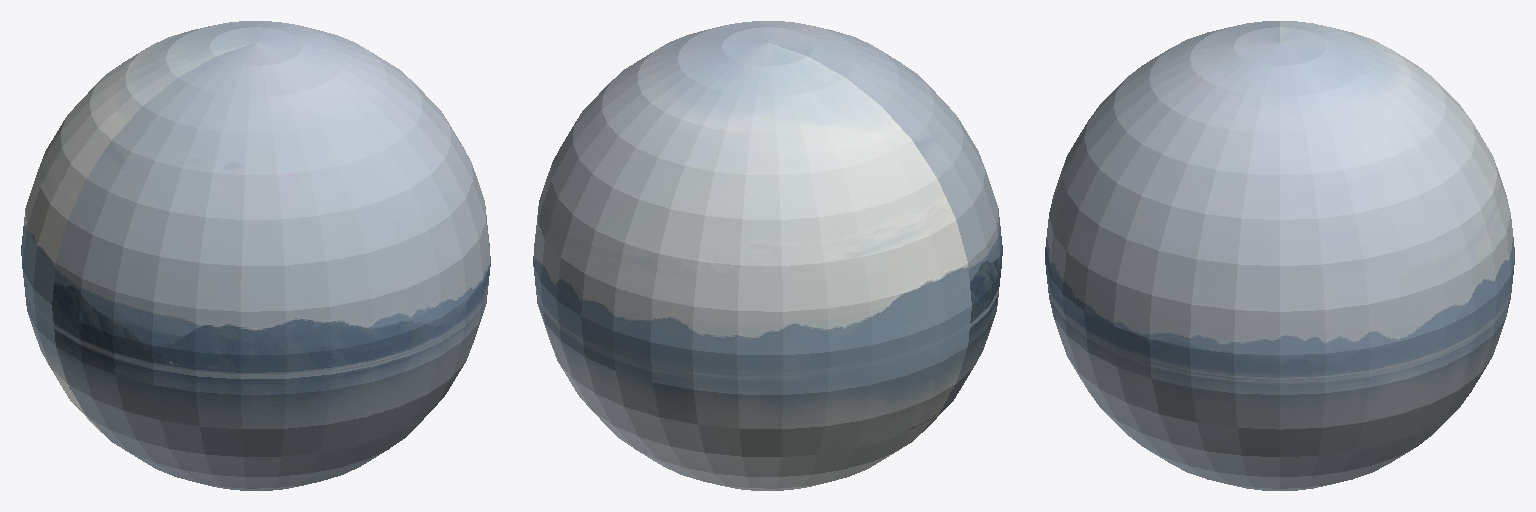
3 renders of one model, left to right at view 1: azimuth 30°, elevation 25°; view 2: azimuth 150°, elevation 25°; view 3: azimuth 270°, elevation 25°, orthographic.
Visible parts, largest first — view 1: 球; view 2: 球; view 3: 球.
Part boxes in pixels (x1,y1,x2,y2): 球: (21, 21, 490, 490); 球: (533, 21, 1002, 490); 球: (1045, 21, 1514, 490).
Bounding box in the file's own units: 2 × 2 × 2.
Materials: 1 (1 with a texture image).